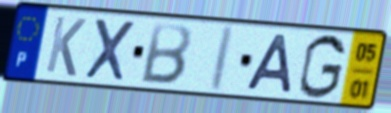A: (244, 32, 295, 96)
B: (138, 20, 194, 87)
G: (296, 32, 349, 101)
I: (205, 22, 237, 94)
K: (43, 14, 89, 79)
X: (82, 16, 138, 85)
